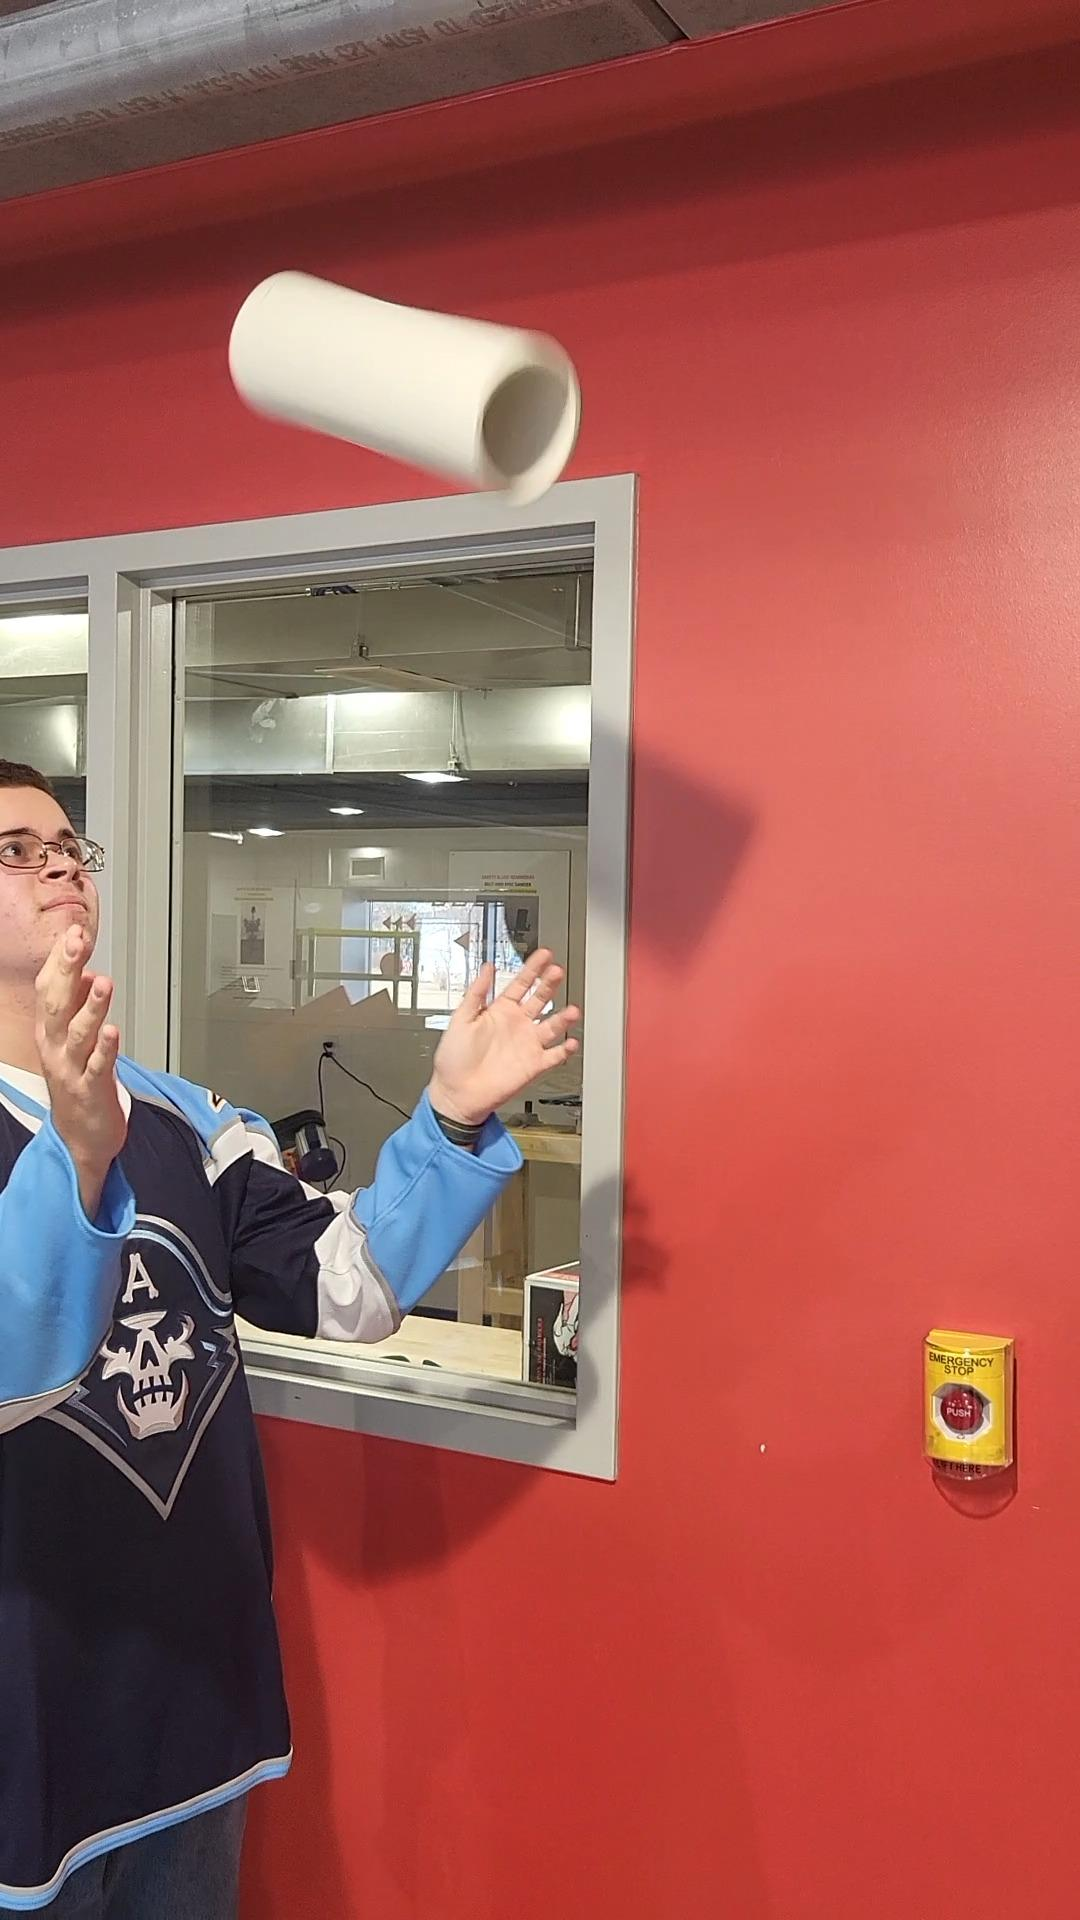coral: (227, 270, 580, 495)
